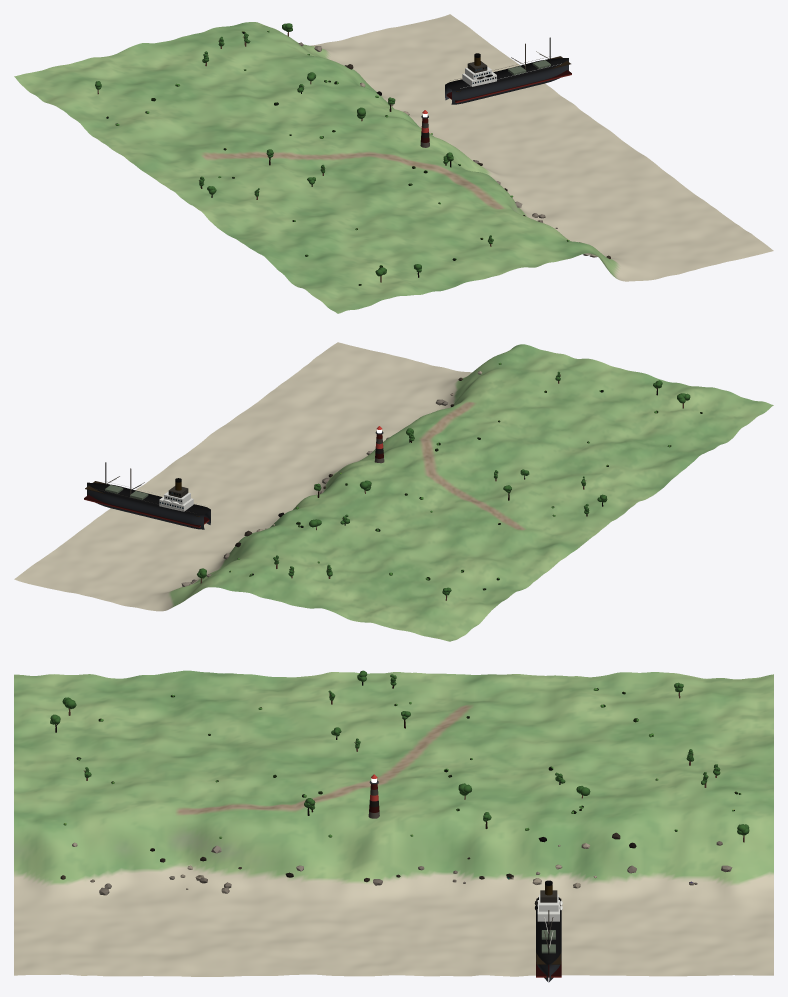
The model's file is coast.glb.
3 renders of one model, top to bottom at view 1: azimuth 30°, elevation 25°; view 2: azimuth 150°, elevation 25°; view 3: azimuth 270°, elevation 25°, orthographic. The views are drawn at different scales.
Parts seen in each view (by area): view 1: coast.terrain.0, coast.paint.31, coast.leaf.25, coast.paint.34; view 2: coast.terrain.0, coast.paint.31, coast.leaf.25, coast.paint.34; view 3: coast.terrain.0, coast.leaf.25, coast.paint.31, coast.paint.34.
Part boxes in pixels (left/top/right/bottom): coast.terrain.0: left=14, top=14, right=773, bottom=313; coast.paint.31: left=445, top=58, right=568, bottom=104; coast.leaf.25: left=95, top=23, right=493, bottom=276; coast.paint.34: left=450, top=57, right=561, bottom=88; coast.terrain.0: left=14, top=342, right=773, bottom=641; coast.paint.31: left=87, top=482, right=210, bottom=529; coast.leaf.25: left=197, top=371, right=690, bottom=595; coast.paint.34: left=96, top=481, right=204, bottom=513; coast.terrain.0: left=14, top=670, right=773, bottom=976; coast.leaf.25: left=50, top=670, right=749, bottom=835; coast.paint.31: left=536, top=897, right=561, bottom=982; coast.paint.34: left=537, top=890, right=559, bottom=921.
Size of the model in its own units: 221 by 35.66 by 270.
